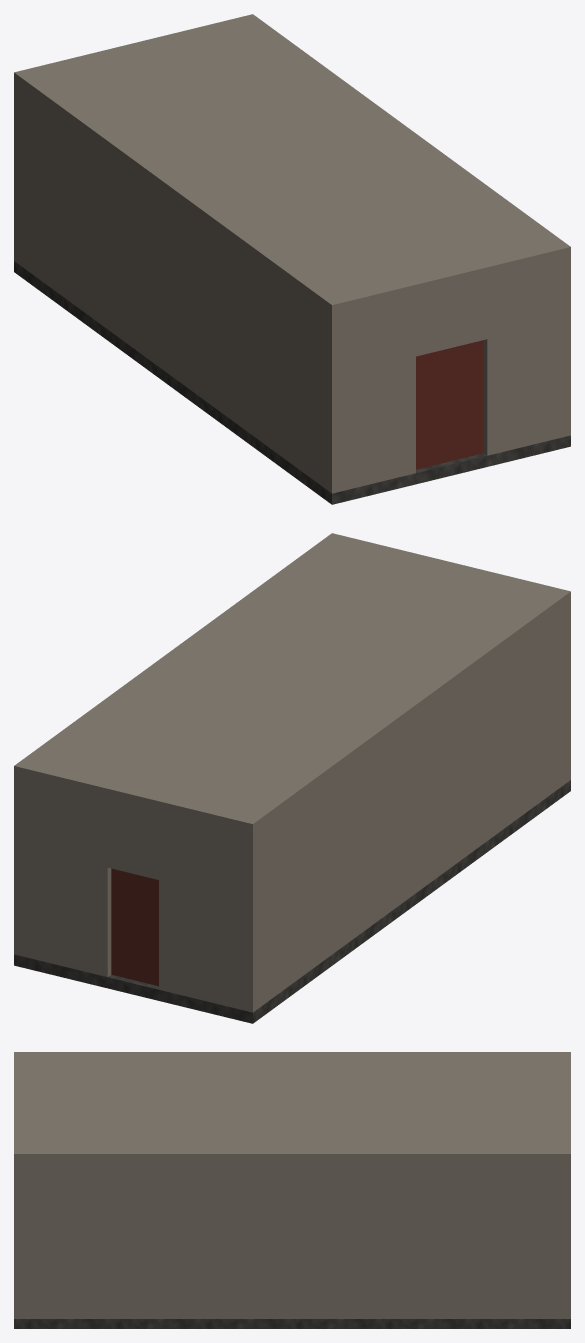
The picture shows the model from 3 angles, top to bottom: view 1: azimuth 30°, elevation 25°; view 2: azimuth 150°, elevation 25°; view 3: azimuth 270°, elevation 25°; orthographic projection. The views are drawn at different scales.
Visible parts, largest first — view 1: CEILING_finite_slab, WALL_side_-1, WALL_end_-1_jamb_1, WALL_end_-1_jamb_-1, DOOR_leaf_-1, FLOOR_finite_slab, WALL_end_-1_lintel, WALL_side_1; view 2: CEILING_finite_slab, WALL_side_-1, WALL_end_1_jamb_1, WALL_end_1_jamb_-1, FLOOR_finite_slab, DOOR_leaf_1, WALL_end_1_lintel, WALL_side_1; view 3: WALL_side_1, CEILING_finite_slab, FLOOR_finite_slab.
Part boxes in pixels (x1=…): CEILING_finite_slab: x1=14, y1=14, x2=570, y2=316; WALL_side_-1: x1=14, y1=84, x2=339, y2=493; WALL_end_-1_jamb_1: x1=483, y1=260, x2=562, y2=455; WALL_end_-1_jamb_-1: x1=340, y1=296, x2=415, y2=491; DOOR_leaf_-1: x1=416, y1=340, x2=483, y2=469; FLOOR_finite_slab: x1=14, y1=261, x2=570, y2=504; WALL_end_-1_lintel: x1=416, y1=278, x2=487, y2=356; WALL_side_1: x1=563, y1=258, x2=570, y2=437; CEILING_finite_slab: x1=14, y1=533, x2=570, y2=835; WALL_side_-1: x1=245, y1=603, x2=570, y2=1012; WALL_end_1_jamb_1: x1=22, y1=779, x2=111, y2=977; WALL_end_1_jamb_-1: x1=159, y1=812, x2=244, y2=1010; FLOOR_finite_slab: x1=14, y1=780, x2=570, y2=1023; DOOR_leaf_1: x1=111, y1=868, x2=158, y2=986; WALL_end_1_lintel: x1=107, y1=800, x2=158, y2=879; WALL_side_1: x1=14, y1=777, x2=21, y2=956; WALL_side_1: x1=14, y1=1164, x2=570, y2=1318; CEILING_finite_slab: x1=14, y1=1052, x2=570, y2=1163; FLOOR_finite_slab: x1=14, y1=1319, x2=570, y2=1328.
Size of the model in its own units: 5.36 by 4.28 by 12.36.
Materials: 10 (1 with a texture image).
